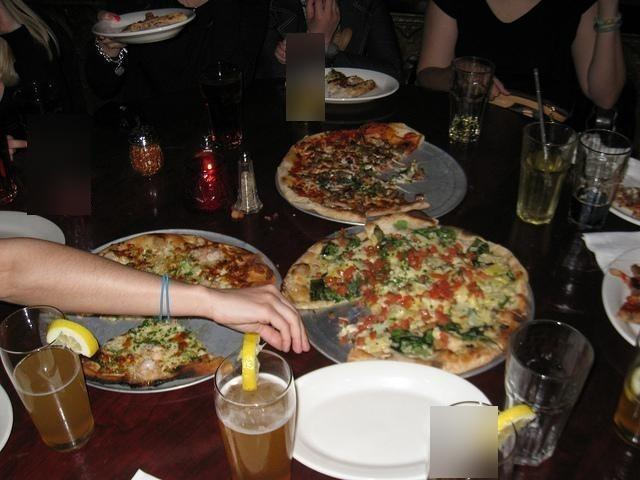glass-normal: (1, 304, 99, 453), (503, 320, 593, 464), (214, 346, 299, 479), (568, 128, 633, 231), (516, 120, 577, 225), (447, 56, 491, 145)
